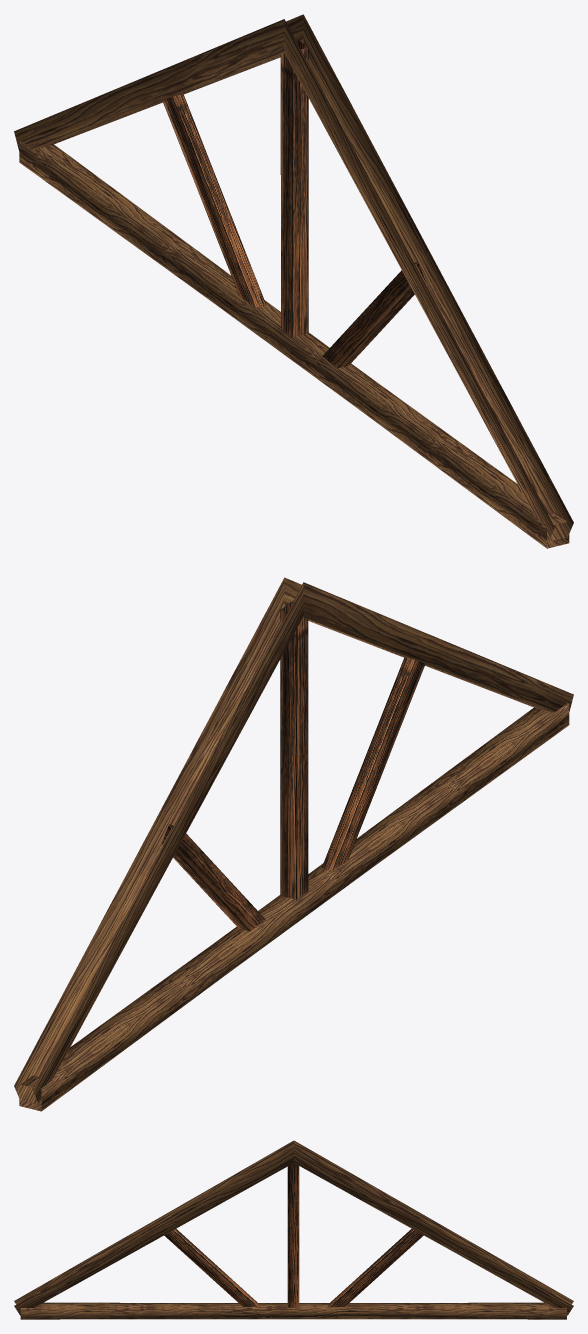
The model's file is INST_LT_CEIL_BEAMS.fbx.
3 views of the same model, one above another, from view 1: azimuth 30°, elevation 25°; view 2: azimuth 150°, elevation 25°; view 3: azimuth 270°, elevation 25° (orthographic). The views are drawn at different scales.
Parts seen in each view (by area): view 1: INST_LT_CEIL_BEAMS; view 2: INST_LT_CEIL_BEAMS; view 3: INST_LT_CEIL_BEAMS.
Part boxes in pixels (x1,y1,x2,y2): INST_LT_CEIL_BEAMS: (14,14,573,548); INST_LT_CEIL_BEAMS: (14,577,573,1111); INST_LT_CEIL_BEAMS: (14,1140,573,1319).
Size of the model in its own units: 3908 by 56062 by 163584.
Materials: 2 (2 with a texture image).
